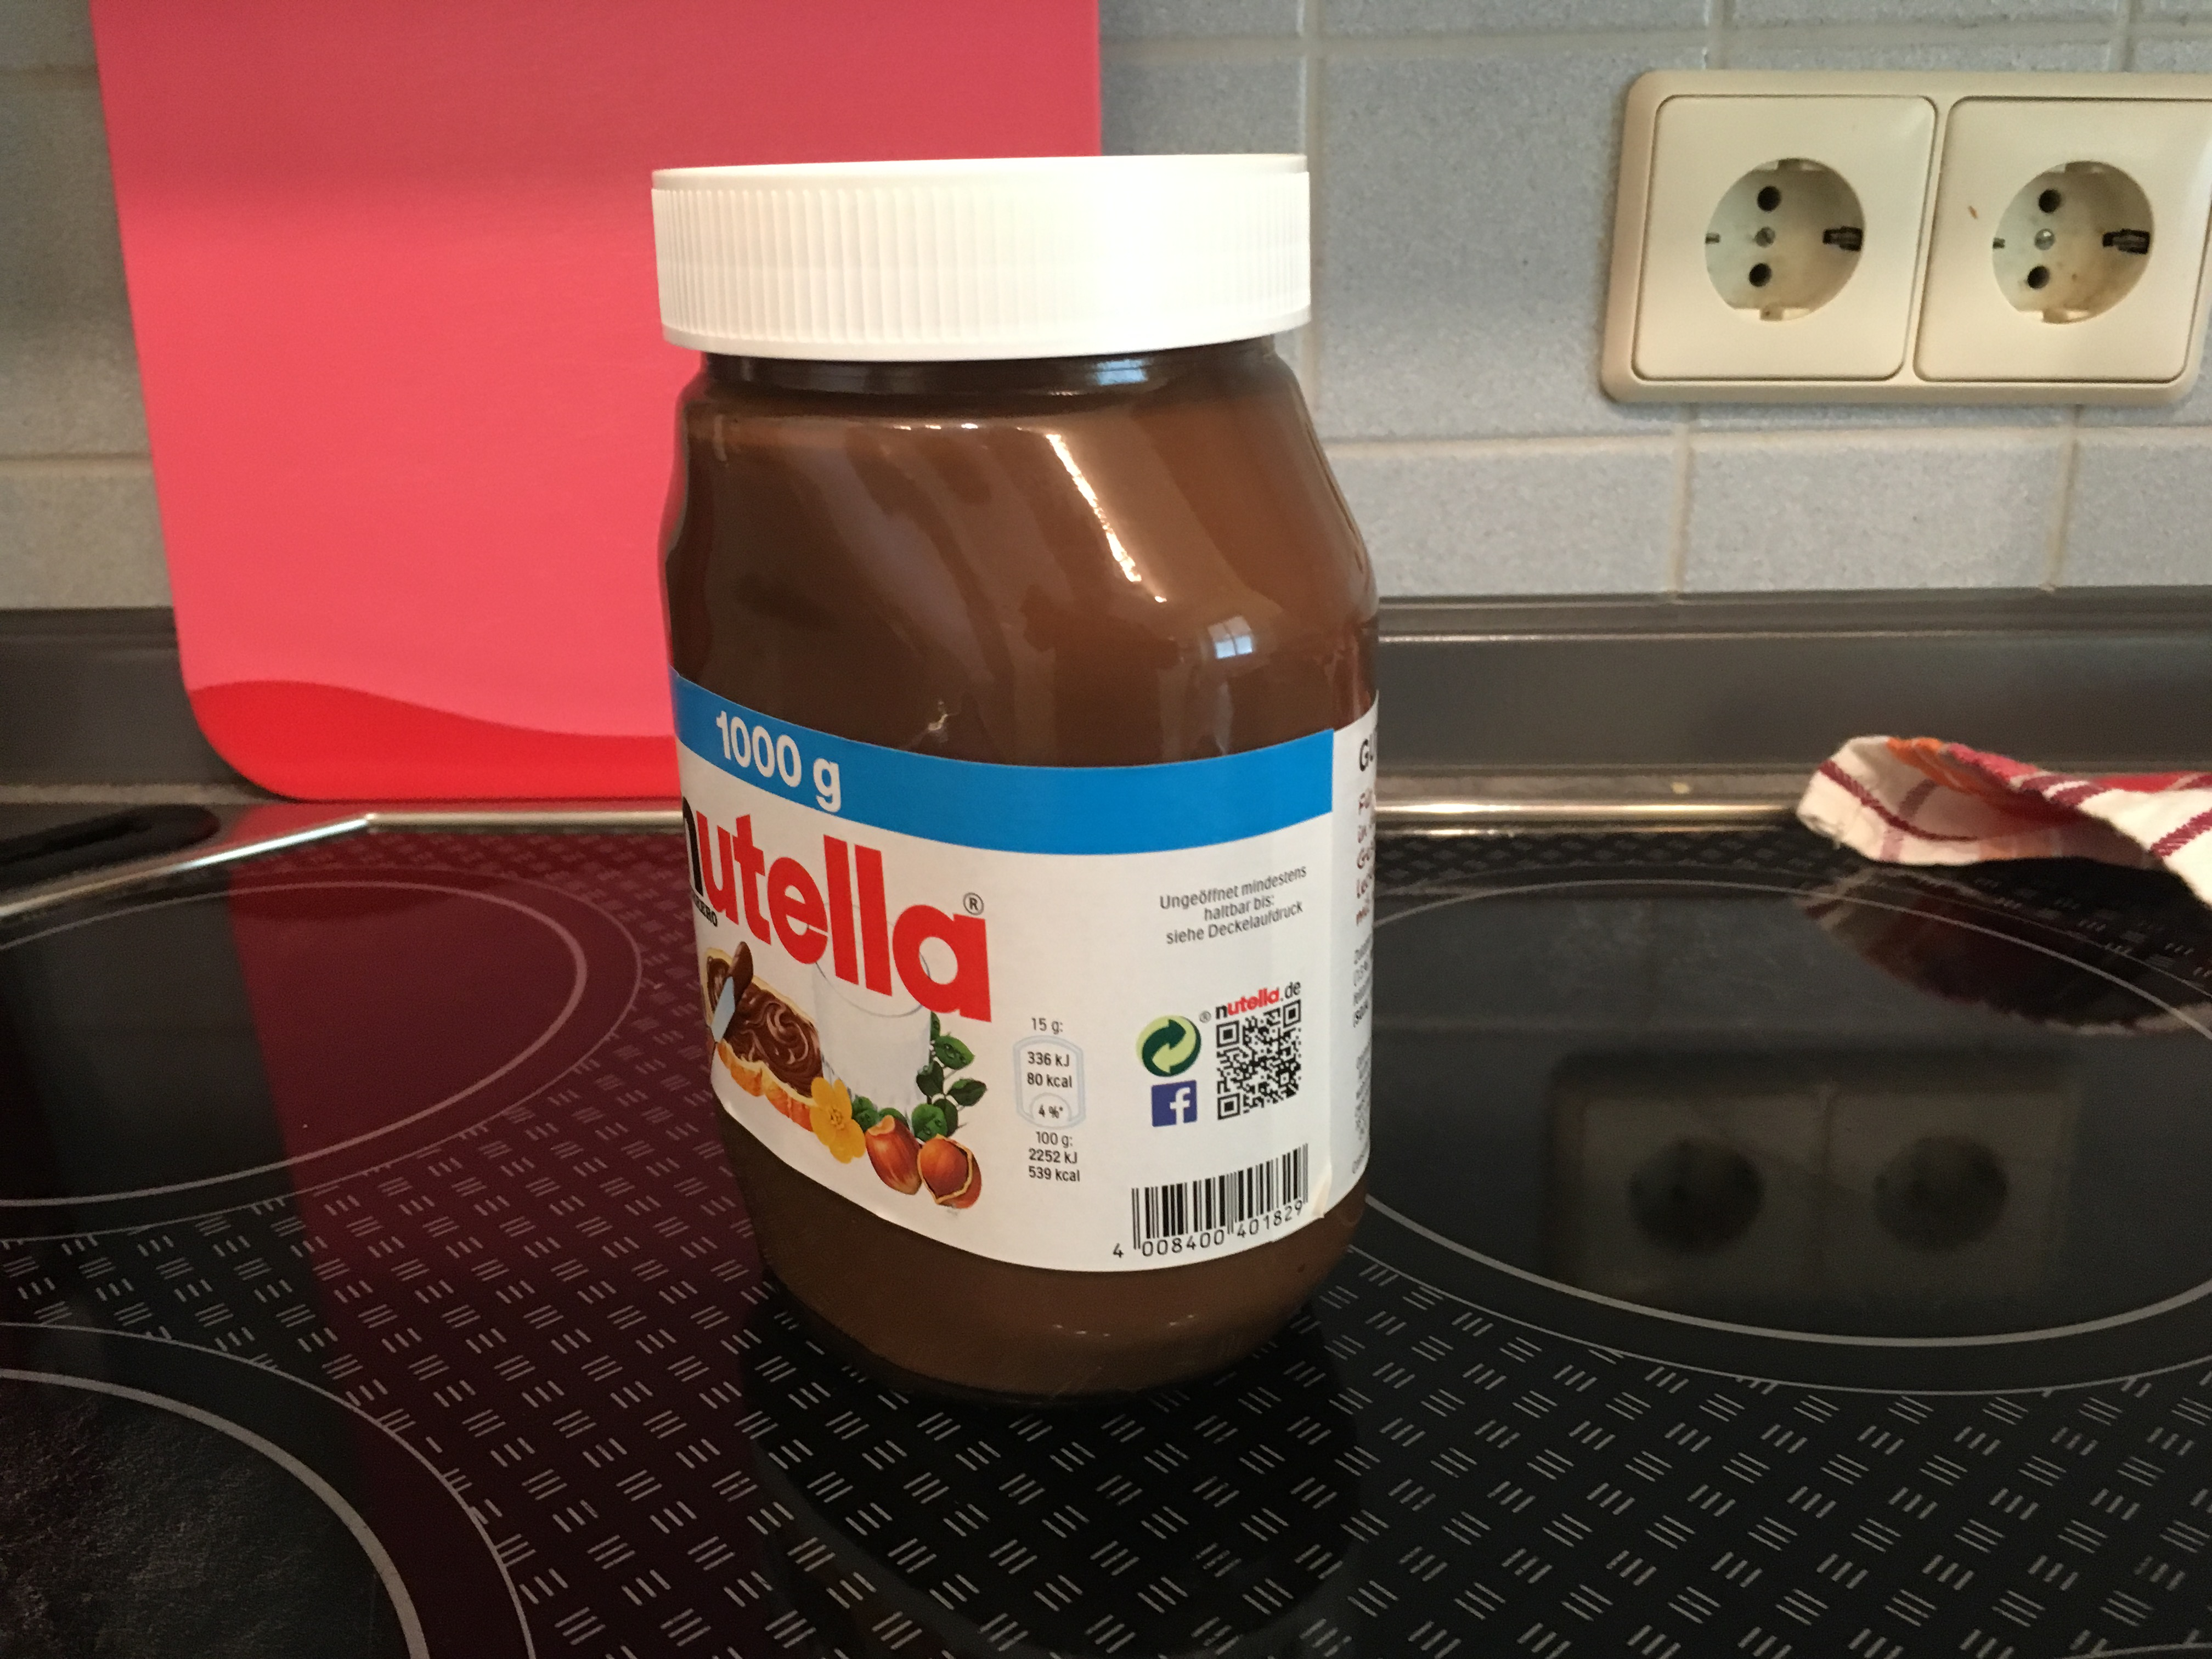nutella: (651, 152, 1372, 1406)
